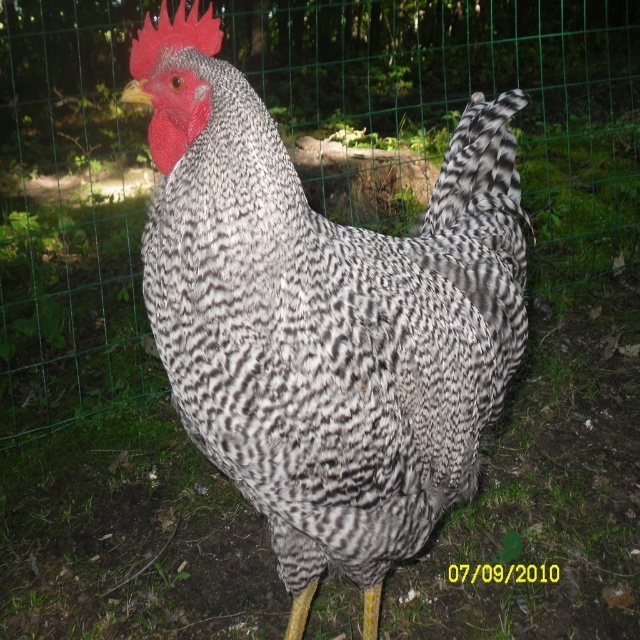Chicken: (121, 0, 536, 640)
